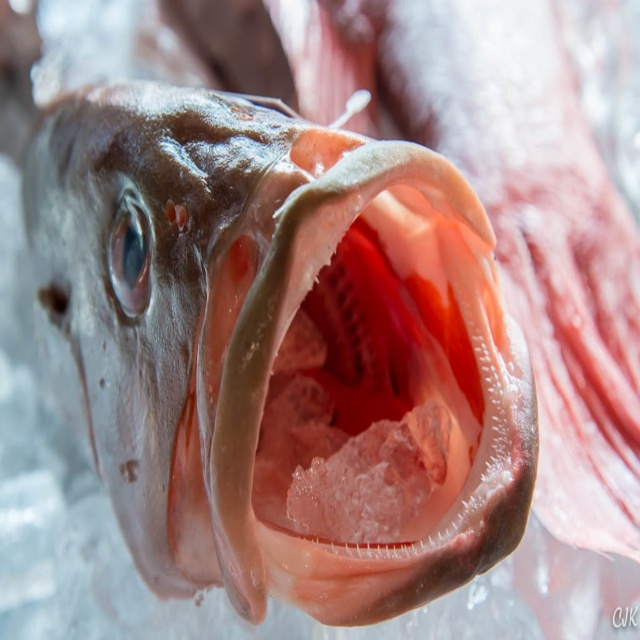Fish: (20, 78, 540, 628)
